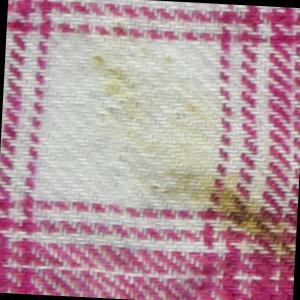Oil Stain: (77, 50, 300, 266)
